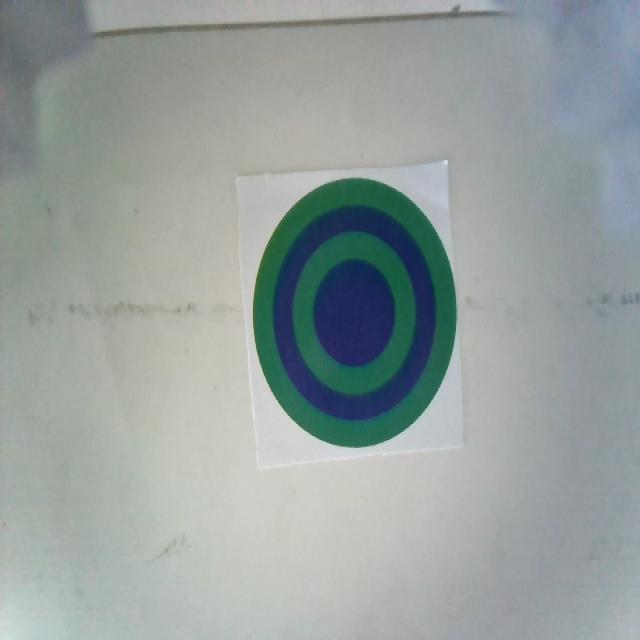cogn: (252, 177, 455, 447)
